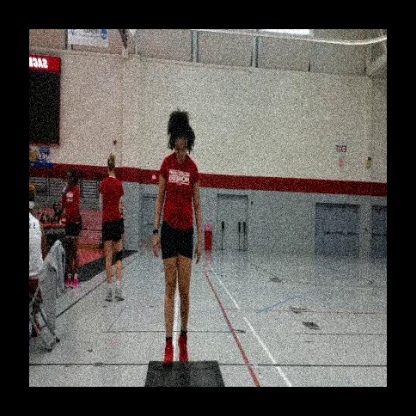lateral_flexion_normal: (150, 105, 205, 374)
stance_width_narrow: (149, 150, 204, 370)
